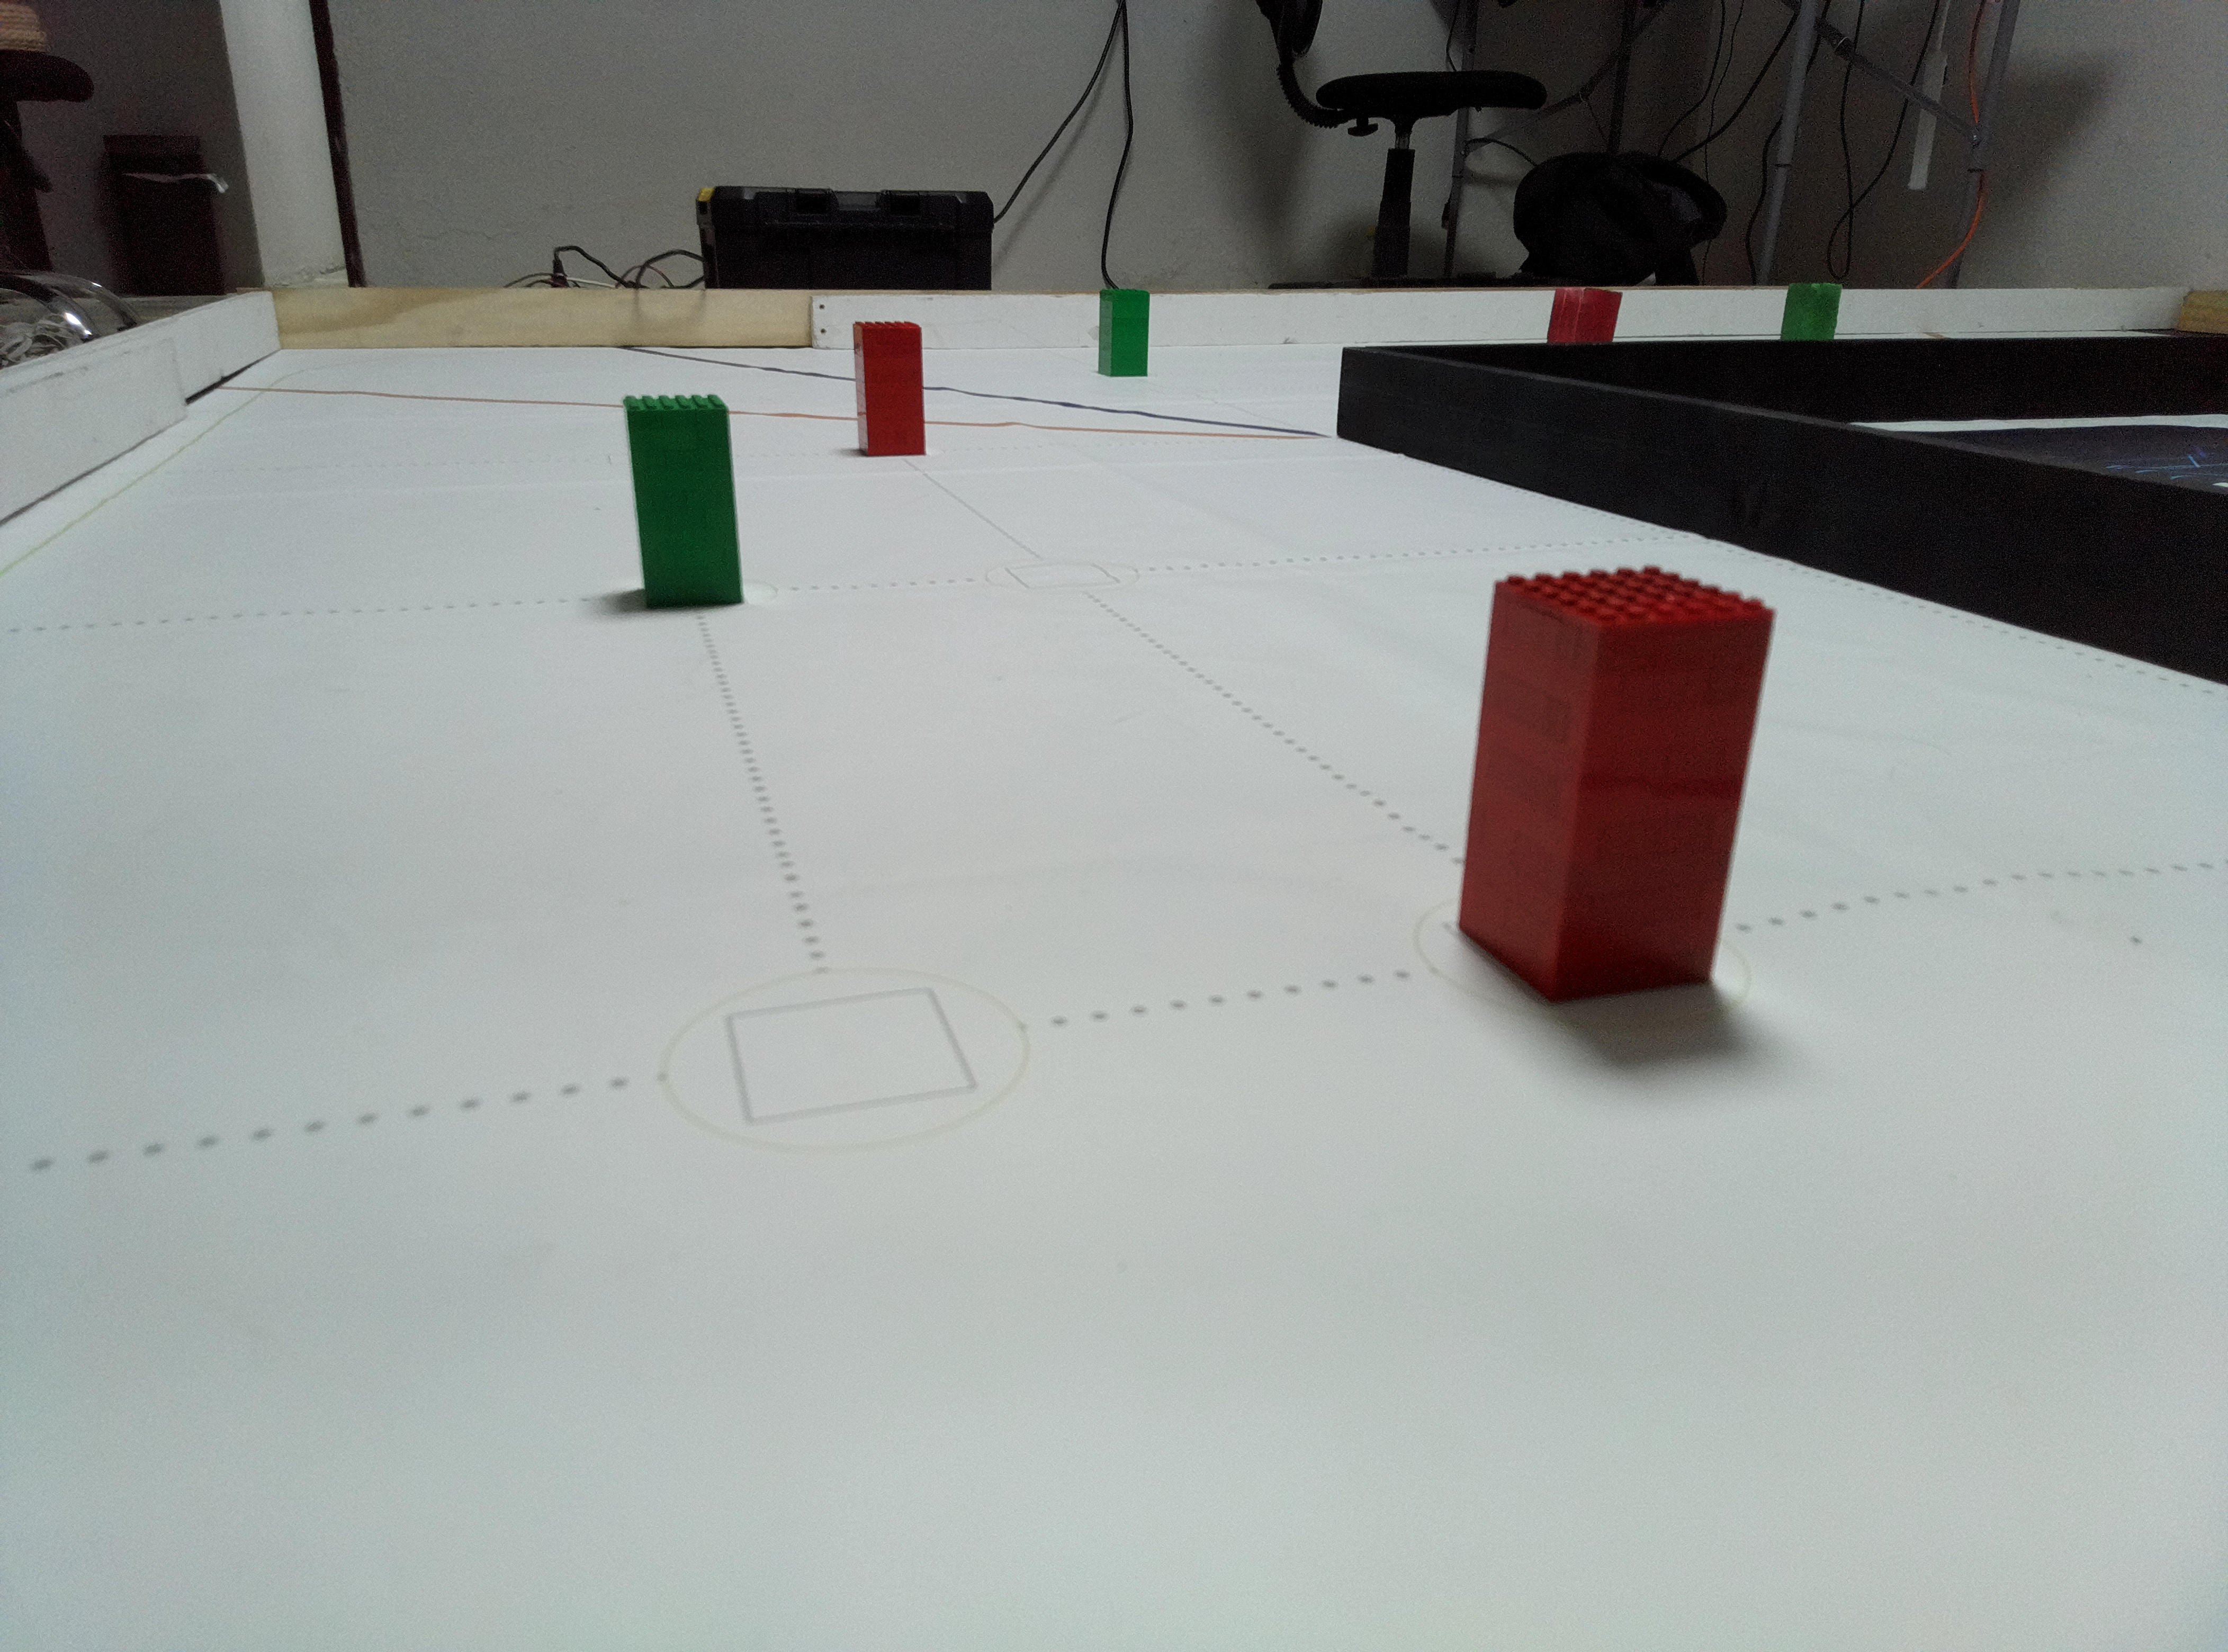greenbox: (621, 392, 746, 611), (1097, 286, 1150, 377), (1779, 281, 1843, 340)
redbox: (1452, 567, 1779, 1008), (852, 319, 927, 458), (1546, 288, 1624, 344)
